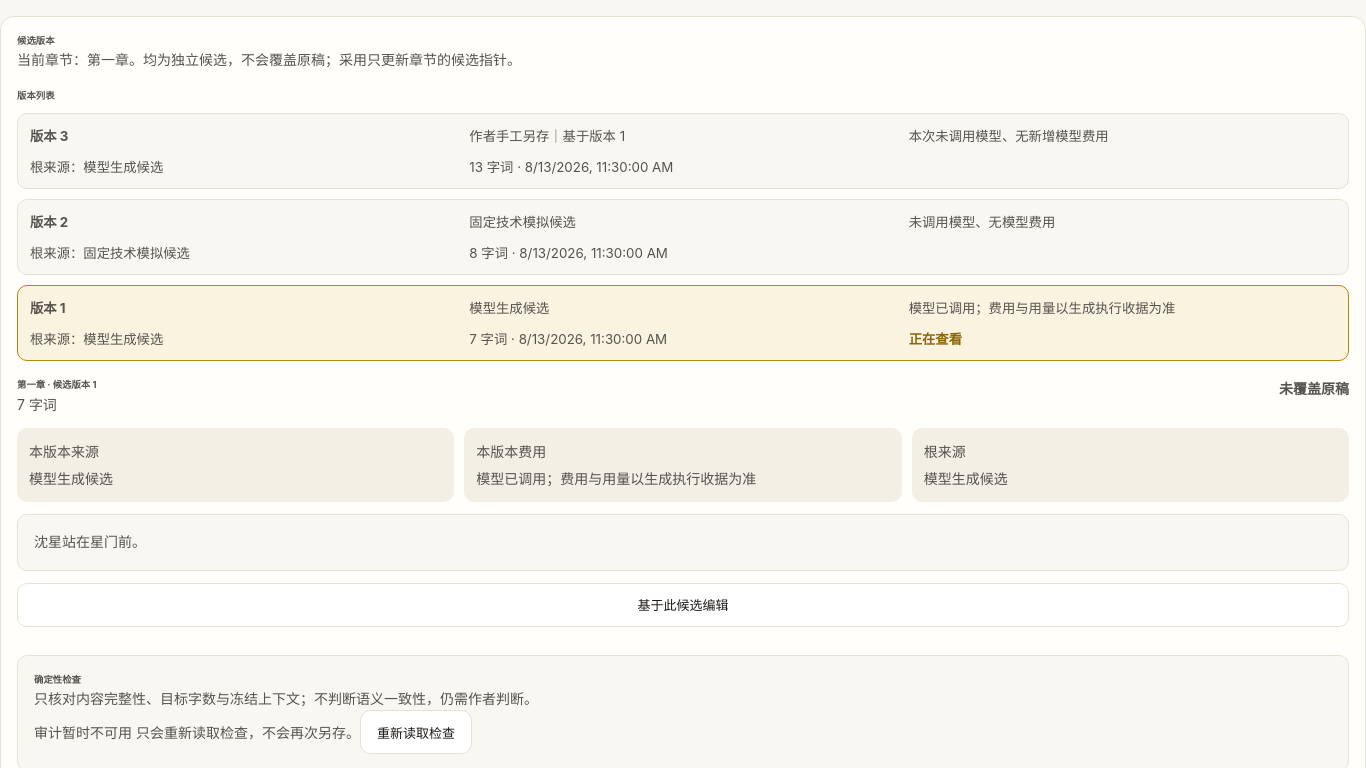
Test: CandidateVersionWorkspace › labels generated, technical and manual sources precisely without selected-current claims
Expected: the heading "第一章 · 候选版本 1" is shown, [17,377,96,392]
Expected: the text "当前章节：第一章。均为独立候选，不会覆盖原稿；采用只更新章节的候选指针。" is shown, [17,48,521,72]
Click the button "版本 3 作者手工另存": click(547, 136) [17,113,1349,189]
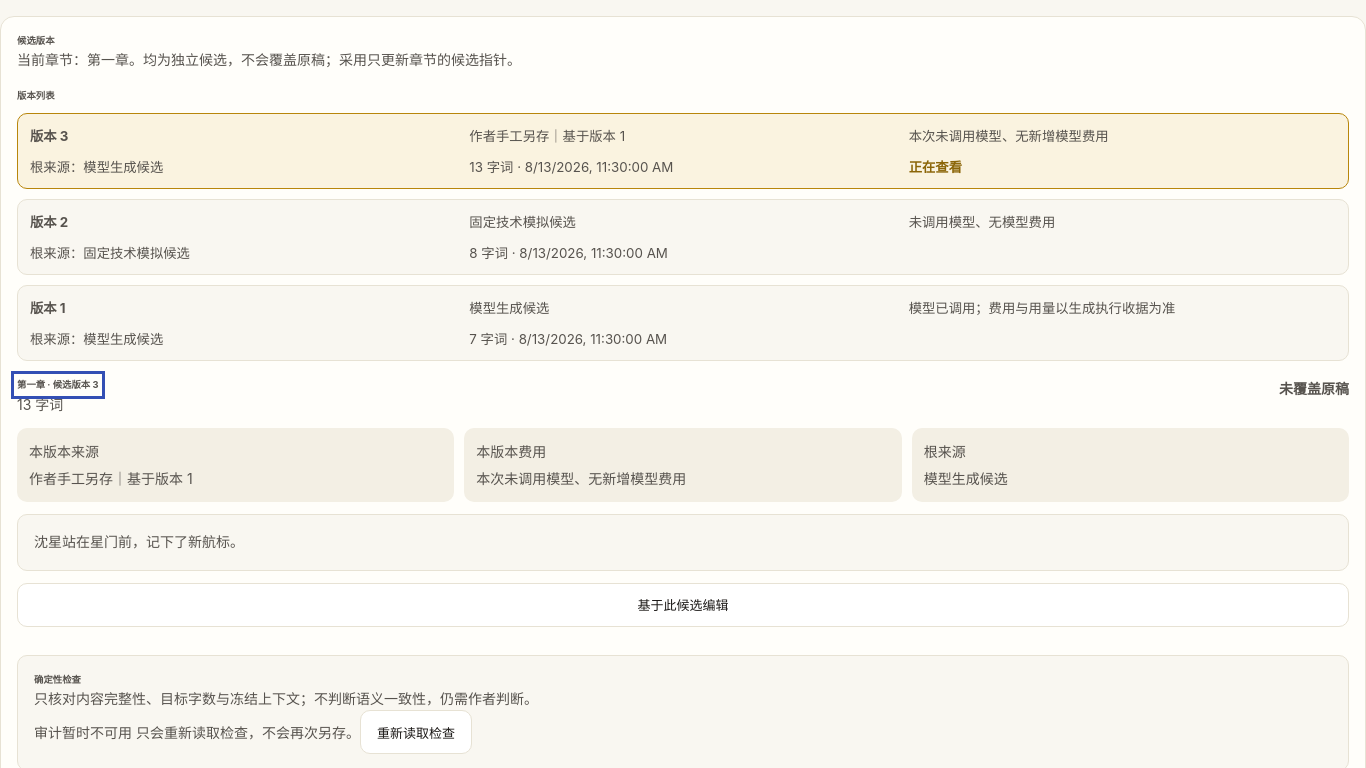
Now the text named "正在查看的候选版本正文" reads "沈星站在星门前，记下了新航标。", box [34,534,244,550]
